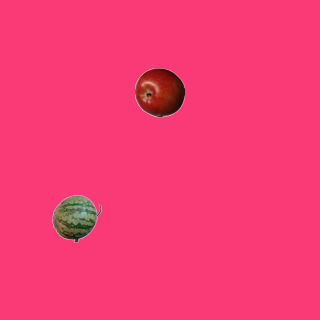Apple Braeburn: (134, 67, 184, 117)
Watermelon: (51, 193, 101, 243)
